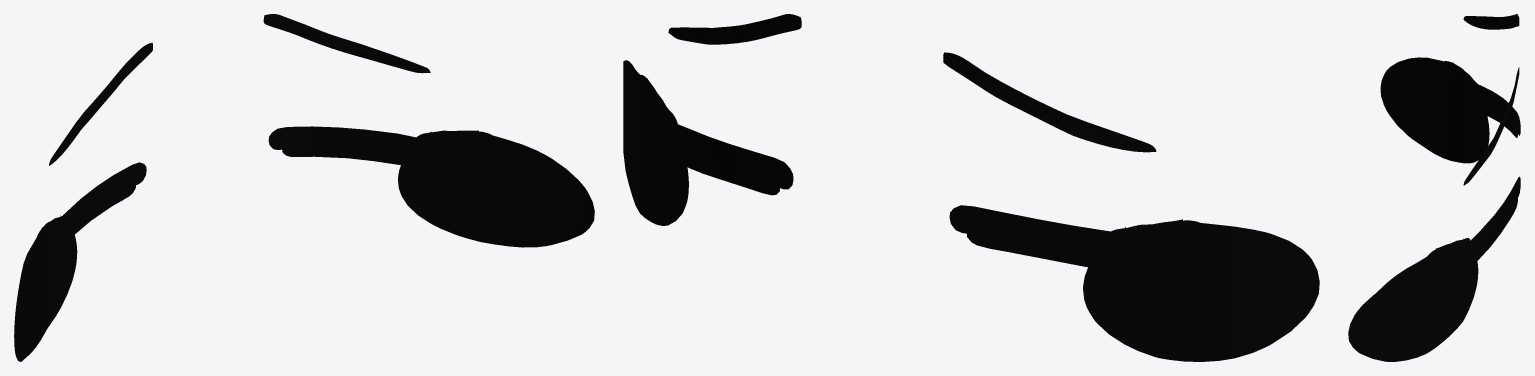
The model's file is 18-Sleepy-Tired-Face-eyes.glb.
The picture shows the model from 3 angles, left to right: view 1: azimuth 30°, elevation 25°; view 2: azimuth 150°, elevation 25°; view 3: azimuth 270°, elevation 25°; orthographic projection. The views are drawn at different scales.
Parts seen in each view (by area): view 1: 18-Sleepy-Tired-Face-eyes; view 2: 18-Sleepy-Tired-Face-eyes; view 3: 18-Sleepy-Tired-Face-eyes.
Boxes of the visible parts, x1,y1,x2,y2 form: 18-Sleepy-Tired-Face-eyes: (14,14,594,361); 18-Sleepy-Tired-Face-eyes: (623,14,1319,361); 18-Sleepy-Tired-Face-eyes: (1348,14,1520,361).
Bounding box in the file's own units: 1.02 × 0.4053 × 0.3021.
Materials: 6 (6 with a texture image).
